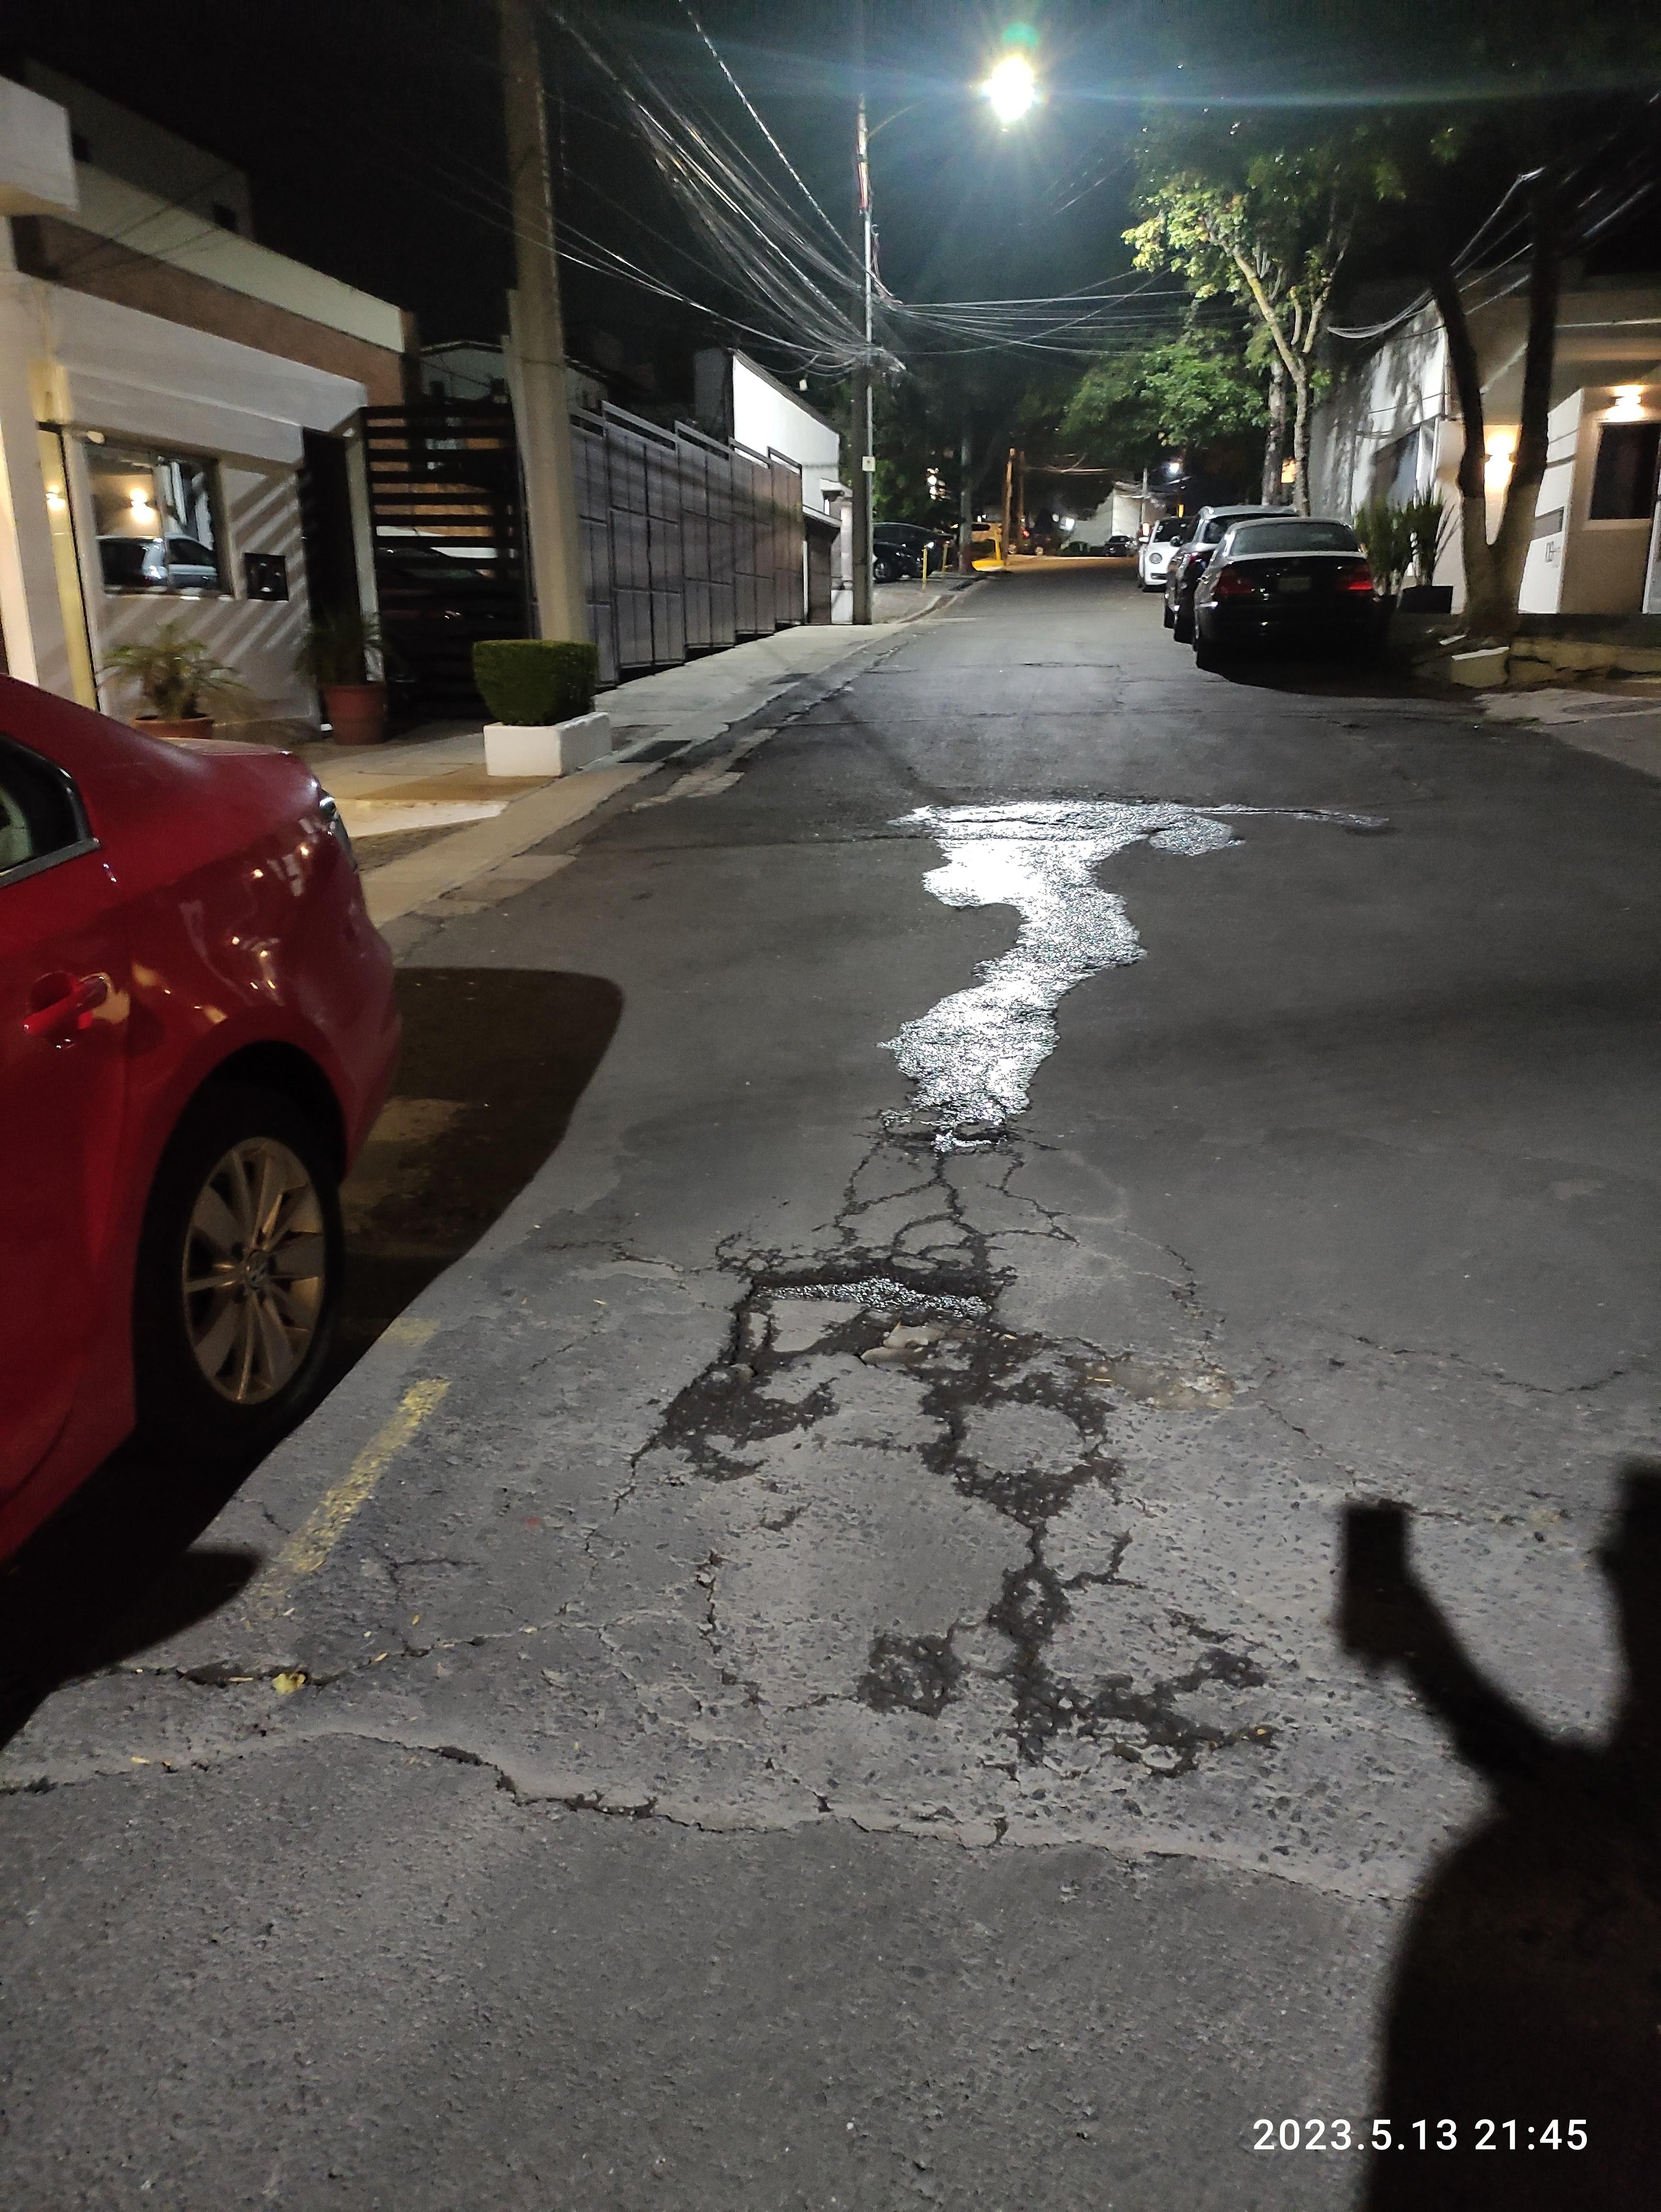alligator-crack: (832, 1323, 1273, 1787), (453, 1497, 791, 1746), (720, 1108, 1086, 1327), (604, 827, 1170, 863)
crack: (0, 1713, 1438, 1918)
